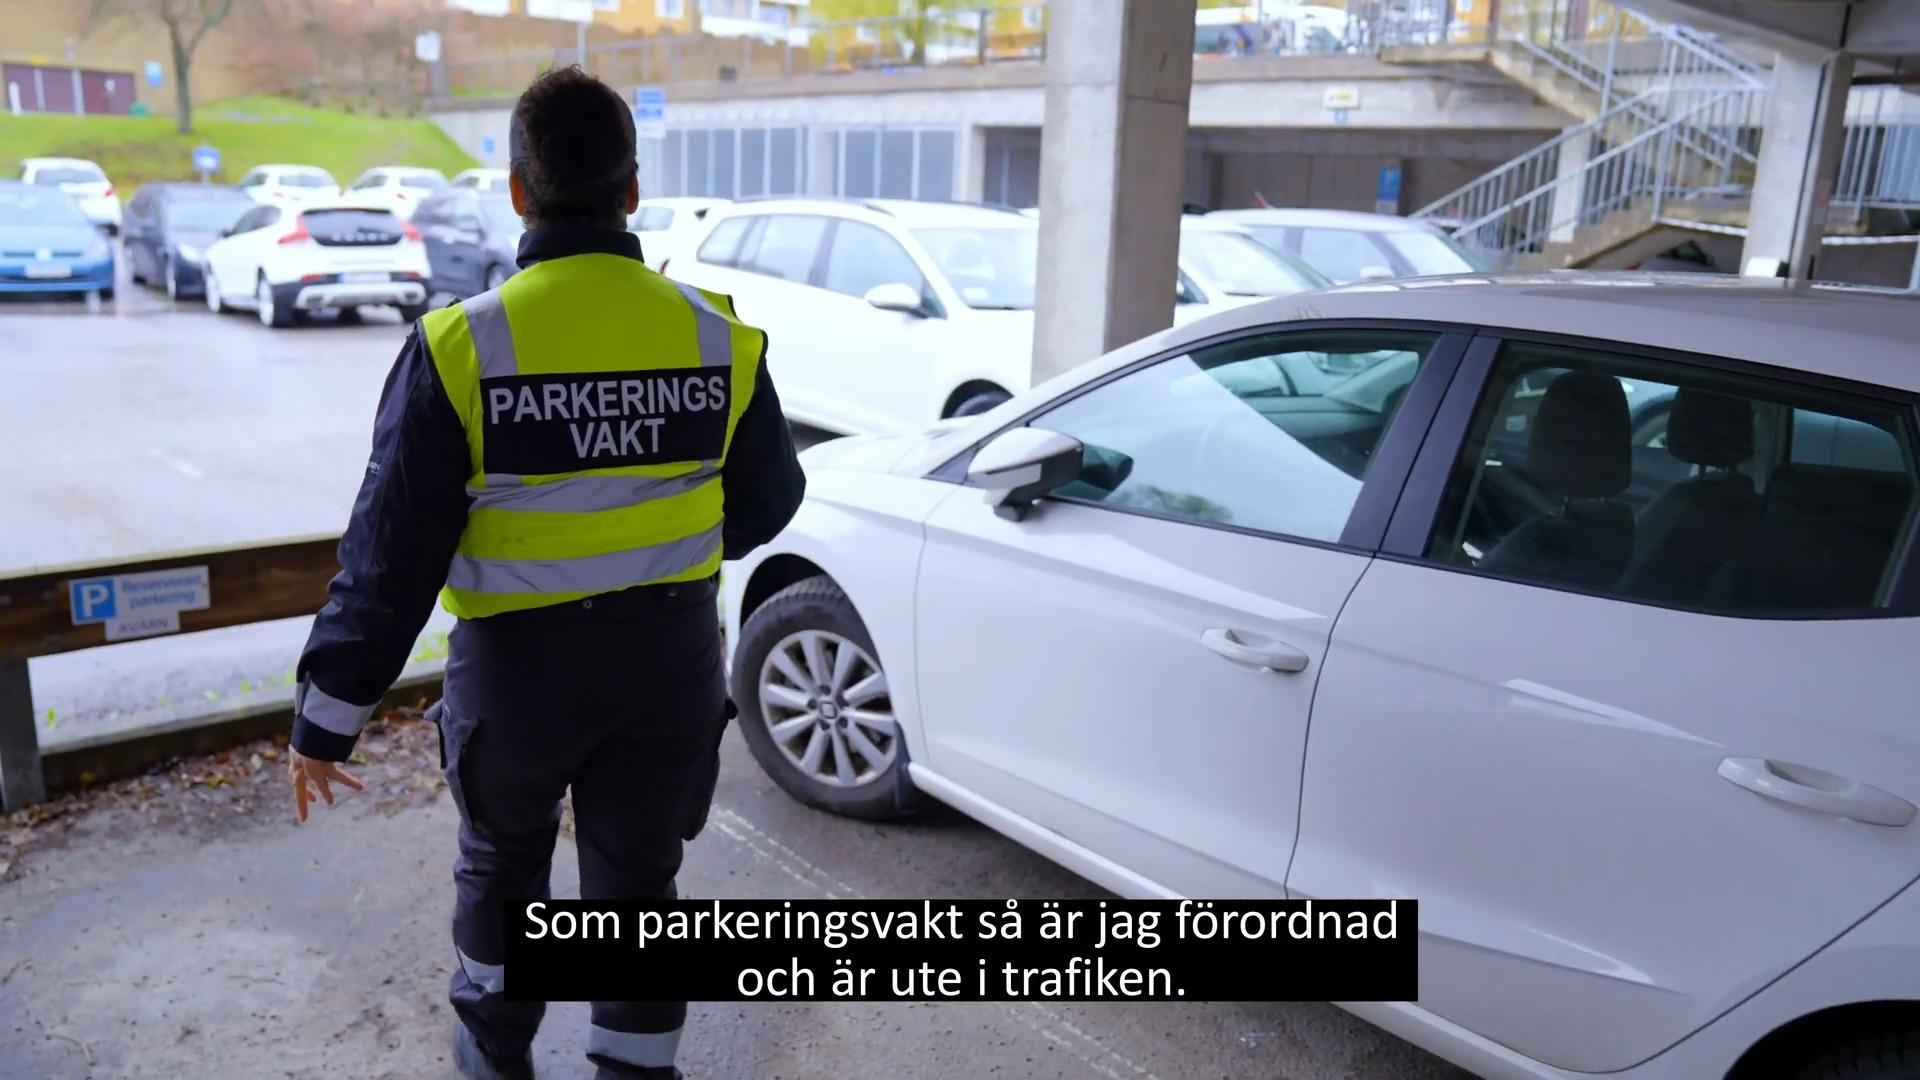parking-attendant: (289, 66, 804, 1079)
